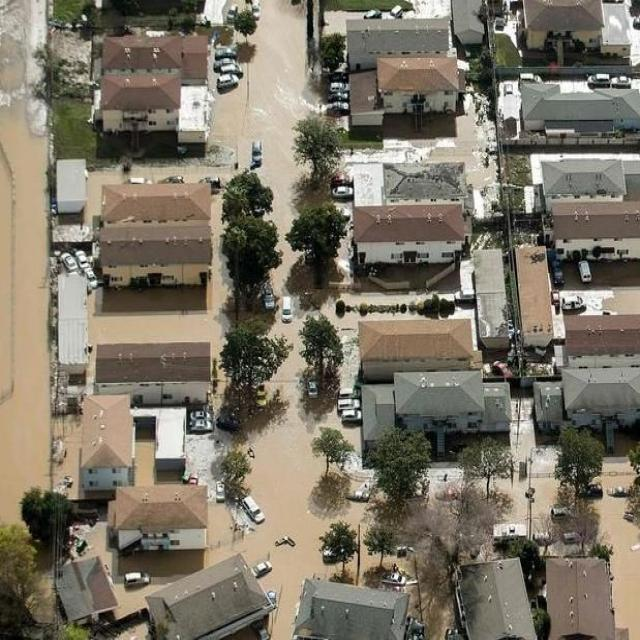flood: (84, 301, 368, 640), (210, 0, 320, 300), (89, 195, 229, 382), (0, 100, 50, 524), (501, 397, 553, 532), (320, 283, 431, 340), (598, 500, 640, 640)
house: (91, 178, 225, 288), (94, 27, 214, 141), (352, 162, 480, 268), (144, 553, 266, 639), (352, 310, 479, 376), (98, 339, 214, 407), (108, 484, 214, 551), (298, 578, 417, 636), (461, 554, 537, 640), (79, 391, 136, 502), (57, 558, 142, 630), (546, 553, 614, 640), (390, 372, 483, 434), (521, 80, 640, 127), (509, 245, 560, 352), (366, 54, 460, 112), (553, 202, 640, 258), (541, 159, 627, 206), (344, 20, 454, 55), (564, 365, 640, 410), (522, 0, 604, 40), (566, 316, 640, 356), (532, 374, 566, 438), (598, 0, 631, 56)
